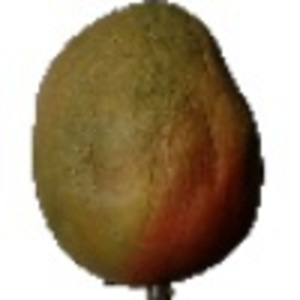mamão: (23, 6, 267, 290)
